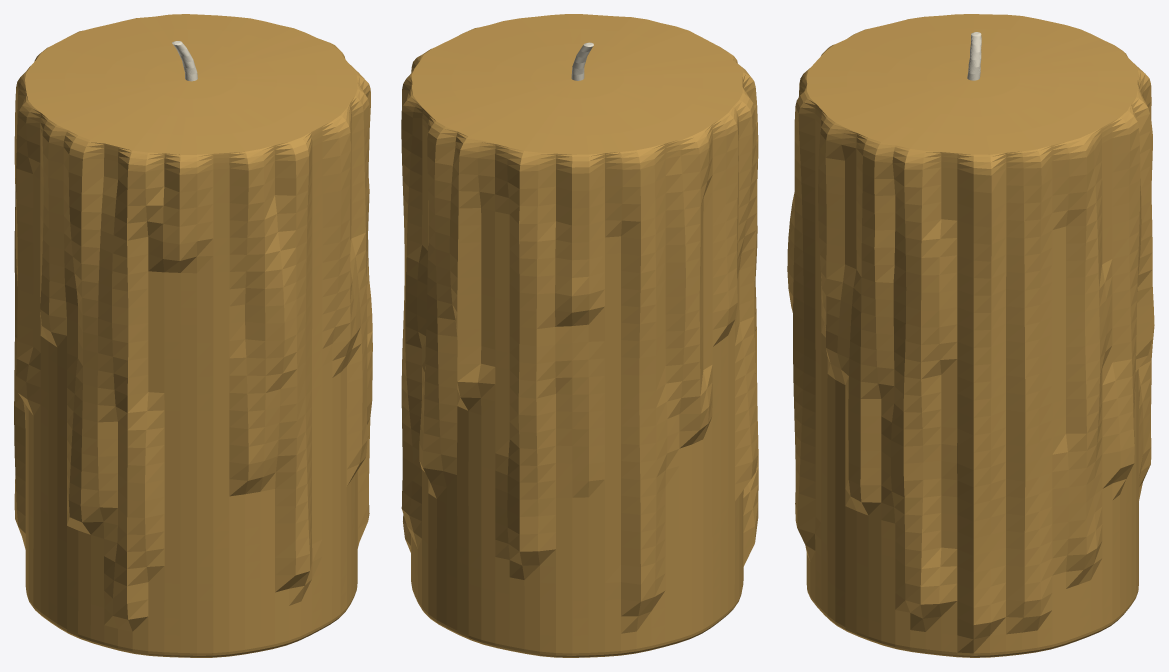
The picture shows the model from 3 angles, left to right: view 1: azimuth 30°, elevation 25°; view 2: azimuth 150°, elevation 25°; view 3: azimuth 270°, elevation 25°; orthographic projection.
Parts seen in each view (by area): view 1: NEW568_LOD1_v003; view 2: NEW568_LOD1_v003; view 3: NEW568_LOD1_v003.
Boxes of the visible parts, x1=… form: NEW568_LOD1_v003: x1=14, y1=14, x2=372, y2=657; NEW568_LOD1_v003: x1=401, y1=14, x2=758, y2=657; NEW568_LOD1_v003: x1=787, y1=14, x2=1154, y2=657.
Size of the model in its own units: 0.0808 by 0.1365 by 0.0825.
